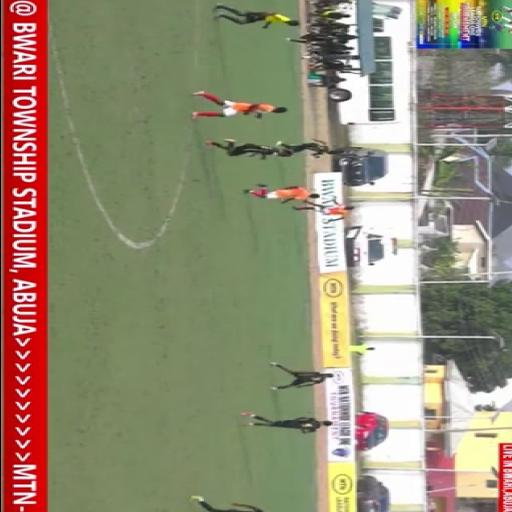ball: (312, 208, 332, 216)
referee: (206, 10, 308, 26)
team1: (190, 97, 298, 122), (296, 198, 352, 220), (246, 189, 324, 203)
team2: (236, 418, 336, 436), (267, 138, 347, 160), (272, 368, 342, 392), (194, 143, 284, 159), (180, 501, 296, 512)
